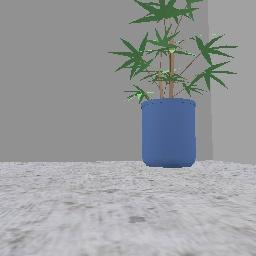planta: (109, 0, 237, 166)
